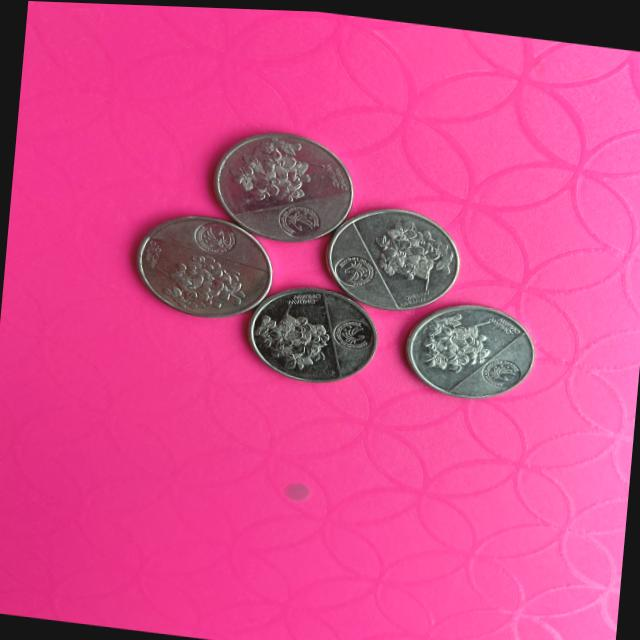1_New_Back: (226, 129, 316, 210), (414, 306, 508, 381), (369, 212, 452, 293), (253, 292, 334, 373), (152, 255, 246, 316)
